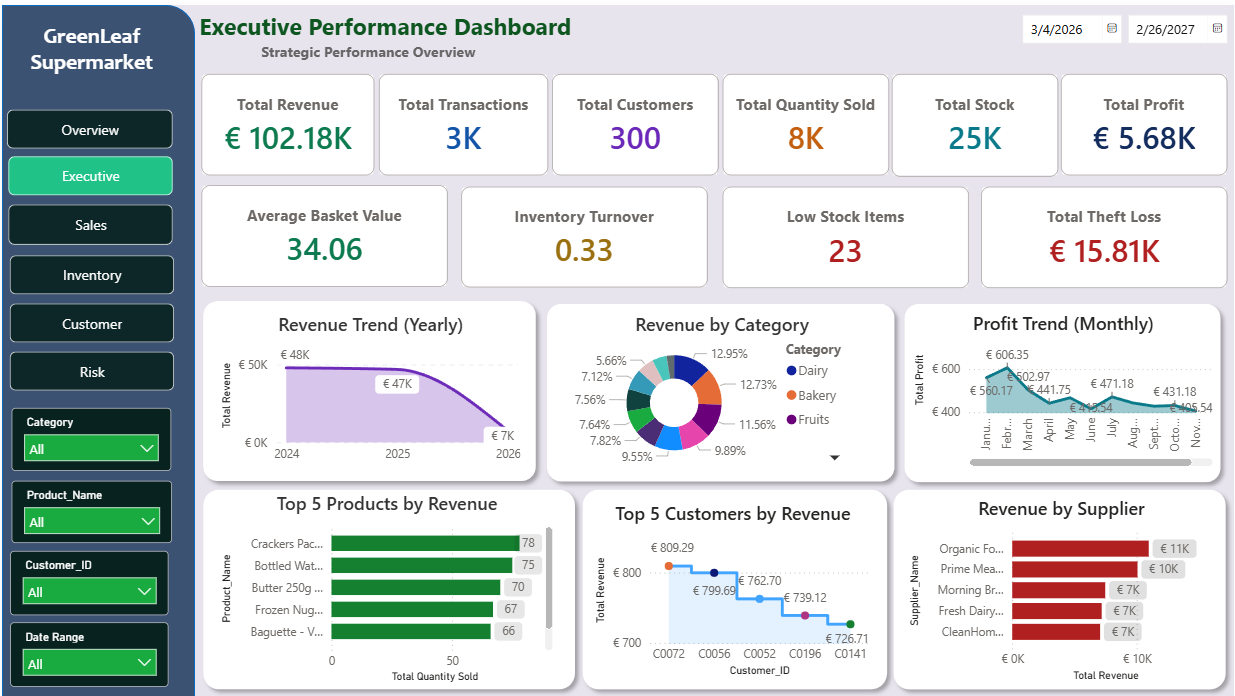

This screenshot's page, from the dashboard's own definition file:
{"tool":"powerbi","page":{"name":"Executive","canvas":[1280,720],"ordinal":1},"visuals":[{"type":"shape","box":[0,0,200.5,719.4],"z":0},{"type":"cardVisual","fields":{"Data":["Sales_dataset.Average Basket Value"]},"box":[200.3,180,270.6,120.4],"z":0,"group":"g1"},{"type":"slicer","fields":{"Values":["Inventory_dataset.Expiry_Date"]},"box":[1046.6,0,233.6,48.9],"z":1000},{"type":"cardVisual","fields":{"Data":["Sales_dataset.Total Revenue"]},"box":[200,64.1,194.3,120],"z":1000,"group":"g6"},{"type":"actionButton","box":[0,107.9,182.3,40.7],"z":1000,"group":"g3"},{"type":"cardVisual","fields":{"Data":["Customers_dataset.Inventory Turnover"]},"box":[469.7,181.2,270.6,119.2],"z":1000,"group":"g1"},{"type":"actionButton","box":[1.4,157,180.9,40.7],"z":2000,"group":"g3"},{"type":"group","id":"g1","title":"Group 2","box":[200.3,180,1080,121.6],"z":2000},{"type":"cardVisual","fields":{"Data":["Inventory_dataset.Low Stock Items"]},"box":[741.5,181.2,270.6,120.4],"z":2000,"group":"g1"},{"type":"cardVisual","fields":{"Data":["Sales_dataset.Total Transactions"]},"box":[384.3,64,190,120],"z":3000,"group":"g6"},{"type":"cardVisual","fields":{"Data":["Theftlog_dataset.Total Theft Loss"]},"box":[1009.7,181.2,270.6,120.4],"z":3000,"group":"g1"},{"type":"actionButton","box":[1.4,207.5,180.9,42.1],"z":3000,"group":"g3"},{"type":"shape","box":[928.3,301.5,346.4,203.3],"z":3000},{"type":"group","id":"g2","title":"Group 3","box":[200.3,0,411.2,64.4],"z":4000},{"type":"cardVisual","fields":{"Data":["Sales_dataset.Total Customers"]},"box":[563.8,64.3,187.1,120.4],"z":4000,"group":"g6"},{"type":"actionButton","box":[2.8,259.4,180.9,40.7],"z":4000,"group":"g3"},{"type":"shape","box":[200.3,299.2,363.6,205],"z":4000,"group":"g4"},{"type":"shape","box":[200,494.3,404.3,225.7],"z":4000,"group":"g5"},{"type":"group","id":"g3","title":"Group 4","box":[0,16.8,186.5,691.2],"z":5000},{"type":"cardVisual","fields":{"Data":["Sales_dataset.Total Quantity Sold"]},"box":[741.4,64.3,187.1,120.4],"z":5000,"group":"g6"},{"type":"shape","box":[557.9,301.6,379.1,202.6],"z":5000,"group":"g4"},{"type":"actionButton","box":[2.8,309.9,180.9,40.7],"z":5000,"group":"g3"},{"type":"group","id":"g4","title":"Group 5","box":[200.3,299.2,1063.2,205],"z":6000},{"type":"actionButton","box":[2.8,360.4,180.9,40.7],"z":6000,"group":"g3"},{"type":"cardVisual","fields":{"Data":["Inventory_dataset.Total Stock"]},"box":[917.1,64.3,187.1,121.4],"z":7000,"group":"g6"},{"type":"lineChart","title":"Revenue Trend (Yearly)","fields":{"Category":["Sales_dataset.Date.Variation.Date Hierarchy.Year","Sales_dataset.Date.Variation.Date Hierarchy.Quarter","Sales_dataset.Date.Variation.Date Hierarchy.Month","Sales_dataset.Date.Variation.Date Hierarchy.Day"],"Y":["Sales_dataset.Total Revenue"]},"box":[222.9,319.5,320.7,165.7],"z":7000,"group":"g4"},{"type":"slicer","fields":{"Values":["Products_dataset.Category"]},"box":[9.5,418.4,165.7,65.6],"z":7000,"group":"g3"},{"type":"group","id":"g5","title":"Group 6","box":[200,493.6,1080.3,226.4],"z":7000},{"type":"group","id":"g6","title":"Group 1","box":[200,64,1080.2,121.7],"z":8000},{"type":"cardVisual","fields":{"Data":["Products_dataset.Total Profit"]},"box":[1093.1,64.3,187.1,120.4],"z":8000,"group":"g6"},{"type":"donutChart","title":"Revenue by Category","fields":{"Category":["Products_dataset.Category"],"Y":["Sales_dataset.Total Revenue"]},"box":[577,319.5,342.1,164.5],"z":8000,"group":"g4"},{"type":"slicer","fields":{"Values":["Products_dataset.Product_Name"]},"box":[9.5,493.5,166.9,64.4],"z":8000,"group":"g3"},{"type":"shape","box":[594.3,494.3,334.3,225.7],"z":9000,"group":"g5"},{"type":"slicer","fields":{"Values":["Customers_dataset.Customer_ID"]},"box":[8.3,566.2,164.5,66.8],"z":9000,"group":"g3"},{"type":"textbox","title":"GreenLeaf Supermarket","box":[0,16.8,186.5,64.5],"z":10000,"group":"g3"},{"type":"shape","box":[917.1,493.6,363.2,225.8],"z":10000,"group":"g5"},{"type":"lineChart","title":"Profit Trend (Monthly)","fields":{"Category":["Sales_dataset.Date.Variation.Date Hierarchy.Month","Sales_dataset.Date.Variation.Date Hierarchy.Day"],"Y":["Products_dataset.Total Profit"]},"box":[943.8,318.3,319.7,166.9],"z":11000,"group":"g4"},{"type":"clusteredBarChart","title":"Top 5 Products by Revenue","fields":{"Category":["Products_dataset.Product_Name"],"Y":["Sales_dataset.Total Quantity Sold"]},"box":[222.9,504.3,354.3,204.3],"z":11000,"group":"g5"},{"type":"slicer","fields":{"Values":["Sales_dataset.Date"]},"box":[8.3,641.3,164.5,66.8],"z":11000,"group":"g3"},{"type":"textbox","box":[200.3,0,411.2,48.9],"z":12000,"group":"g2"},{"type":"areaChart","title":"Top 5 Customers by Revenue","fields":{"Category":["Sales_dataset.Customer_ID"],"Y":["Sales_dataset.Total Revenue"]},"box":[611.4,513.2,295.9,187.9],"z":12000,"group":"g5"},{"type":"textbox","box":[264.7,32.2,244.4,32.2],"z":13000,"group":"g2"},{"type":"clusteredBarChart","title":"Revenue by Supplier","fields":{"Category":["Suppliers_dataset.Supplier_Name"],"Y":["Sales_dataset.Total Revenue"]},"box":[937.1,510,327.1,197.1],"z":13000,"group":"g5"}]}

Visuals, with their boxes in screenshot pixels (x1, y1, x2, y2), scaled from the page's 1280x720 canvas onto the 1235x696 screenshot:
shape: [0,0,193,695]
cardVisual - Sales_dataset.Average Basket Value: [193,174,454,290]
slicer - Inventory_dataset.Expiry_Date: [1010,0,1234,47]
cardVisual - Sales_dataset.Total Revenue: [193,62,380,178]
actionButton: [0,104,176,144]
cardVisual - Customers_dataset.Inventory Turnover: [453,175,714,290]
actionButton: [1,152,176,191]
"Group 2" group: [193,174,1234,292]
cardVisual - Inventory_dataset.Low Stock Items: [715,175,977,292]
cardVisual - Sales_dataset.Total Transactions: [371,62,554,178]
cardVisual - Theftlog_dataset.Total Theft Loss: [974,175,1234,292]
actionButton: [1,201,176,241]
shape: [896,291,1230,488]
"Group 3" group: [193,0,590,62]
cardVisual - Sales_dataset.Total Customers: [544,62,725,179]
actionButton: [3,251,177,290]
shape: [193,289,544,487]
shape: [193,478,583,695]
"Group 4" group: [0,16,180,684]
cardVisual - Sales_dataset.Total Quantity Sold: [715,62,896,179]
shape: [538,292,904,487]
actionButton: [3,300,177,339]
"Group 5" group: [193,289,1219,487]
actionButton: [3,348,177,388]
cardVisual - Inventory_dataset.Total Stock: [885,62,1065,180]
"Revenue Trend (Yearly)" lineChart: [215,309,524,469]
slicer - Products_dataset.Category: [9,404,169,468]
"Group 6" group: [193,477,1234,695]
"Group 1" group: [193,62,1234,180]
cardVisual - Products_dataset.Total Profit: [1055,62,1234,179]
"Revenue by Category" donutChart: [557,309,887,468]
slicer - Products_dataset.Product_Name: [9,477,170,539]
shape: [573,478,896,695]
slicer - Customers_dataset.Customer_ID: [8,547,167,612]
"GreenLeaf Supermarket" textbox: [0,16,180,79]
shape: [885,477,1234,695]
"Profit Trend (Monthly)" lineChart: [911,308,1219,469]
"Top 5 Products by Revenue" clusteredBarChart: [215,487,557,685]
slicer - Sales_dataset.Date: [8,620,167,684]
textbox: [193,0,590,47]
"Top 5 Customers by Revenue" areaChart: [590,496,875,678]
textbox: [255,31,491,62]
"Revenue by Supplier" clusteredBarChart: [904,493,1220,684]
